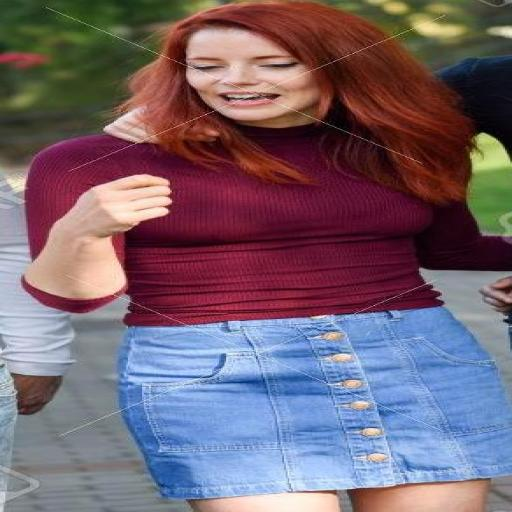person: (23, 1, 511, 511), (0, 181, 75, 503), (437, 55, 511, 155)
